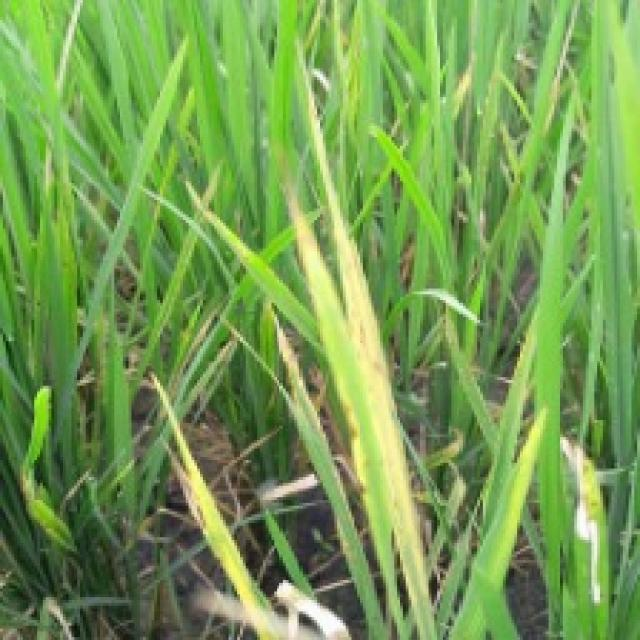Unhealthy: (308, 91, 428, 600), (300, 231, 366, 495)
